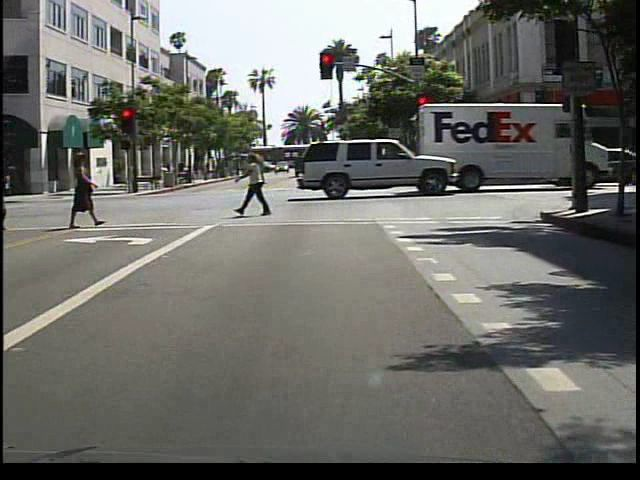person: (67, 147, 104, 230), (241, 150, 277, 219), (2, 153, 30, 232), (177, 157, 191, 184)
